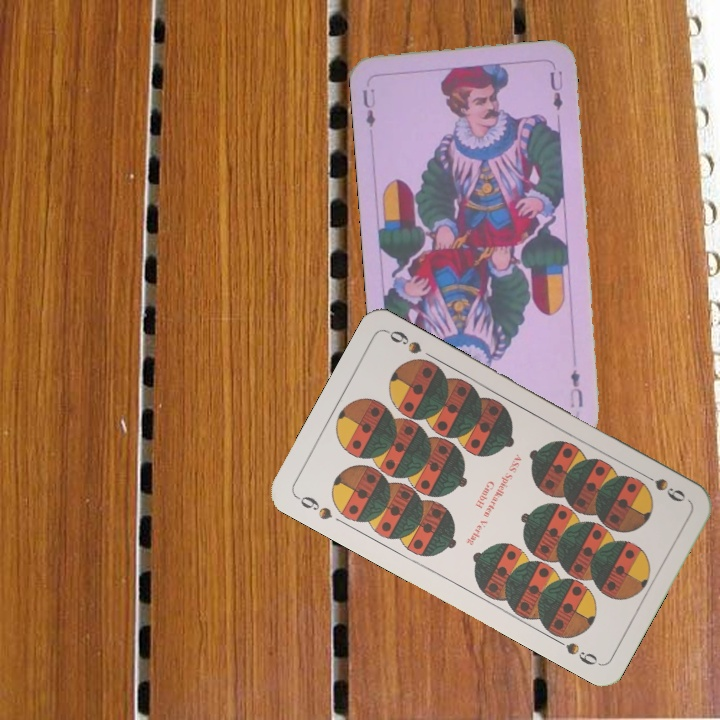EU: (565, 365, 586, 411), (359, 85, 378, 130)
S9: (636, 468, 688, 505), (292, 491, 335, 523)
